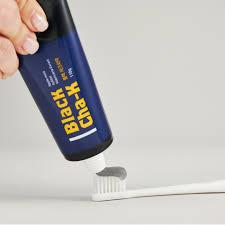toothpaste: (7, 0, 118, 177)
